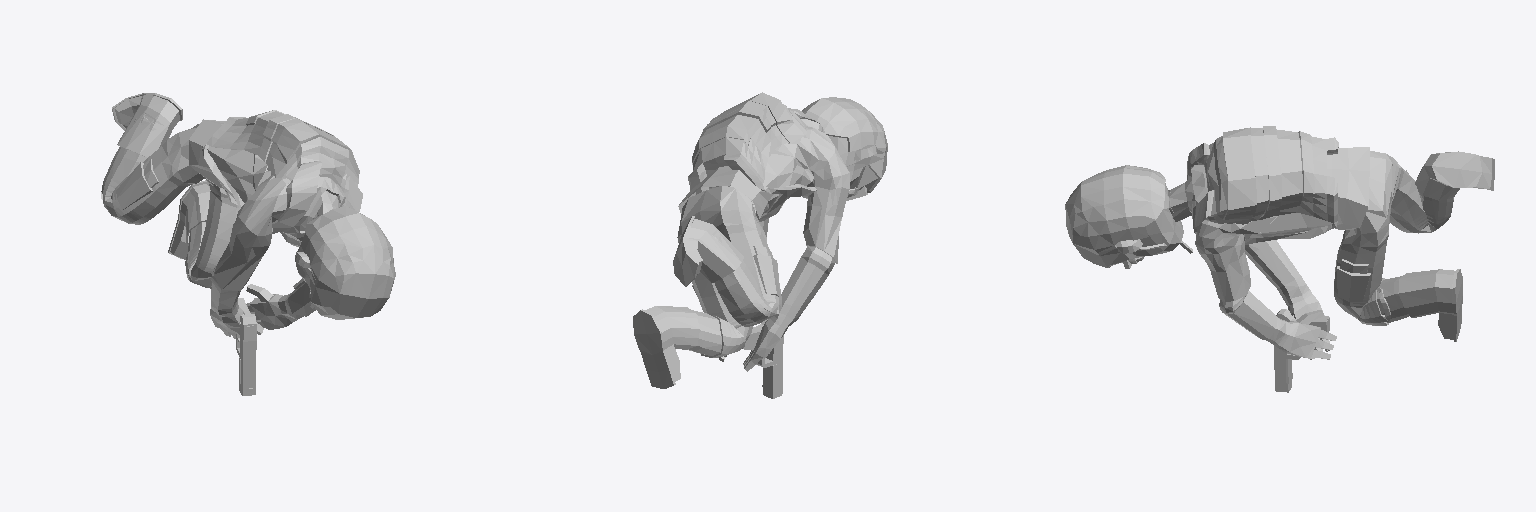
Rendered from frame_0046.obj.
3 renders of one model, left to right at view 1: azimuth 30°, elevation 25°; view 2: azimuth 150°, elevation 25°; view 3: azimuth 270°, elevation 25°, orthographic.
Parts seen in each view (by area): view 1: Body, Gun; view 2: Body, Gun; view 3: Body, Gun.
Boxes of the visible parts, x1=… form: Body: x1=101, y1=93, x2=395, y2=338; Gun: x1=236, y1=298, x2=256, y2=395; Body: x1=633, y1=92, x2=887, y2=388; Gun: x1=742, y1=319, x2=783, y2=398; Body: x1=1065, y1=126, x2=1494, y2=359; Gun: x1=1274, y1=309, x2=1329, y2=392.
Size of the model in its own units: 1.43 by 2.39 by 3.4.